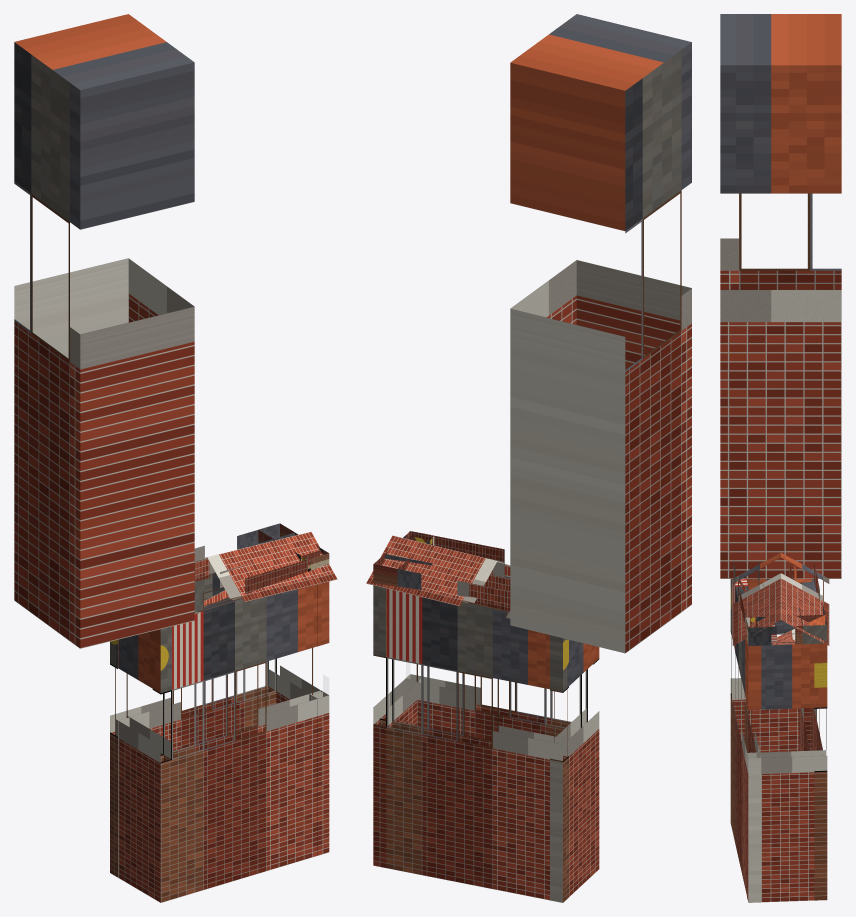
The picture shows the model from 3 angles, left to right: view 1: azimuth 30°, elevation 25°; view 2: azimuth 150°, elevation 25°; view 3: azimuth 270°, elevation 25°; orthographic projection. The views are drawn at different scales.
Parts seen in each view (by area): view 1: 238563122__chimney_0_xb, 238563122__wall_1_xb, 238563122__wall_0_xb, 238563122__wall_4_xb, 238563122_roof_-1_xb, 238563122__wall_2_xb, 238563122__cornice_1, 238563122__cornice_4, 238563122__wall_3_xb; view 2: 238563122__chimney_0_xb, 238563122__wall_4_xb, 238563122__wall_0_xb, 238563122__wall_1_xb, 238563122_roof_1_xb, 238563122__wall_3_xb, 238563122__cornice_4, 238563122__cornice_1, 238563122__cornice_3; view 3: 238563122__chimney_0_xb, 238563122__wall_3_xb, 238563122__wall_1_xb, 238563122__wall_0_xb, 238563122__wall_4_xb, 238563122_roof_-1_xb, 238563122_roof_1_xb, 238563122__cornice_3, 238563122__cornice_4, 238563122__cornice_1, 238563122__wall_2_xb.
Part boxes in pixels (<box>): 238563122__chimney_0_xb: <box>14,14,194,648</box>; 238563122__wall_1_xb: <box>152,584,320,902</box>; 238563122__wall_0_xb: <box>110,626,171,902</box>; 238563122__wall_4_xb: <box>110,573,276,877</box>; 238563122_roof_-1_xb: <box>194,531,337,613</box>; 238563122__wall_2_xb: <box>311,581,329,855</box>; 238563122__cornice_1: <box>194,548,321,612</box>; 238563122__cornice_4: <box>194,523,294,581</box>; 238563122__wall_3_xb: <box>268,648,322,703</box>; 238563122__chimney_0_xb: <box>510,14,691,653</box>; 238563122__wall_4_xb: <box>379,588,568,902</box>; 238563122__wall_0_xb: <box>550,635,599,902</box>; 238563122__wall_1_xb: <box>404,575,599,740</box>; 238563122_roof_1_xb: <box>366,535,510,618</box>; 238563122__wall_3_xb: <box>373,585,418,867</box>; 238563122__cornice_4: <box>379,554,510,610</box>; 238563122__cornice_1: <box>404,531,510,577</box>; 238563122__cornice_3: <box>373,535,429,586</box>; 238563122__chimney_0_xb: <box>720,14,841,578</box>; 238563122__wall_3_xb: <box>757,643,827,902</box>; 238563122__wall_1_xb: <box>730,579,761,902</box>; 238563122__wall_0_xb: <box>730,579,811,752</box>; 238563122__wall_4_xb: <box>799,579,827,900</box>; 238563122_roof_-1_xb: <box>732,553,780,645</box>; 238563122_roof_1_xb: <box>781,553,829,645</box>; 238563122__cornice_3: <box>756,614,825,644</box>; 238563122__cornice_4: <box>789,562,827,644</box>; 238563122__cornice_1: <box>733,562,772,646</box>; 238563122__wall_2_xb: <box>747,641,757,901</box>.
Size of the model in its own units: 0.3466 by 1.05 by 0.15.
Materials: 1 (1 with a texture image).
